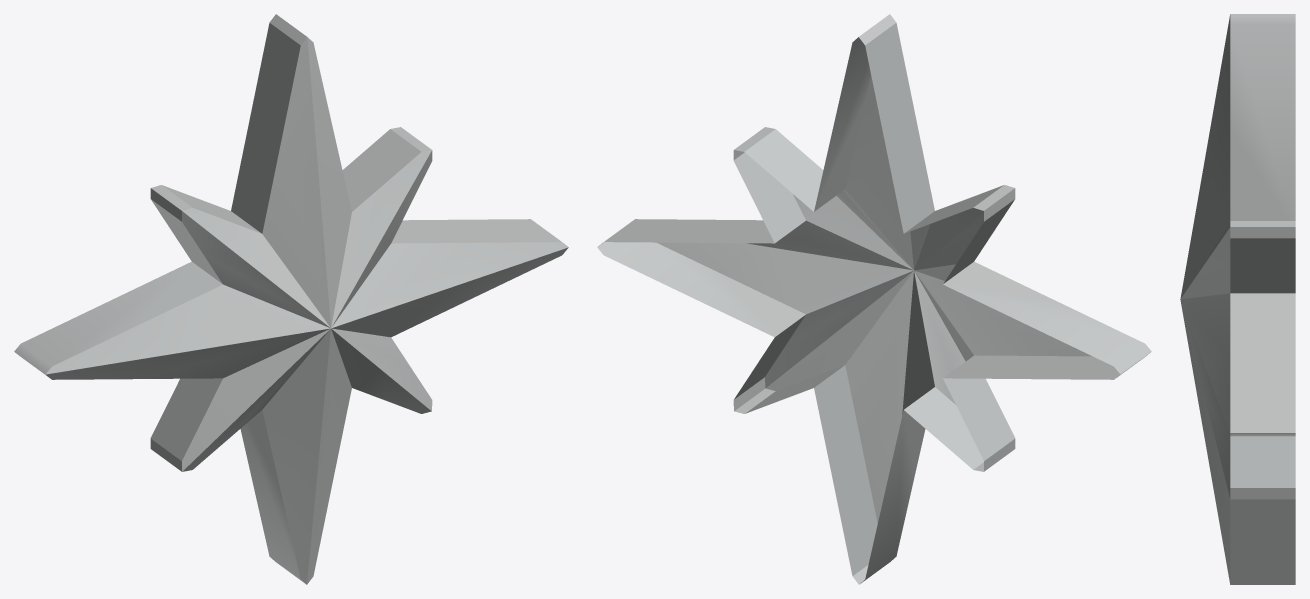
Rendered from STRAYKIDS_04.glb.
3 views of the same model, side by side, from view 1: azimuth 30°, elevation 25°; view 2: azimuth 150°, elevation 25°; view 3: azimuth 270°, elevation 25° (orthographic). The views are drawn at different scales.
Bounding box in the file's own units: 0.1362 × 0.1362 × 0.0249.
Materials: 1 (1 with a texture image).
